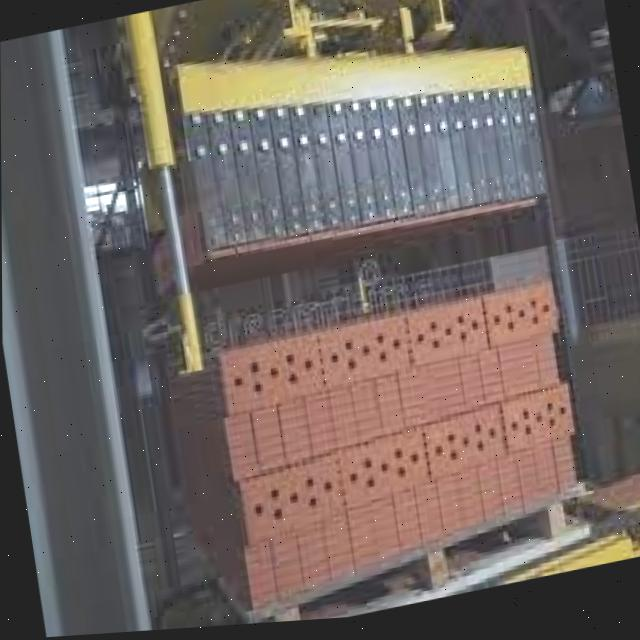bricks: (169, 275, 574, 607)
